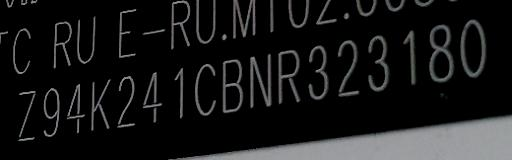letter: (424, 22, 458, 83), (456, 17, 488, 78), (246, 50, 276, 112), (364, 33, 392, 93), (218, 56, 246, 116), (275, 46, 303, 104), (304, 43, 330, 101), (192, 60, 218, 116), (336, 39, 360, 98), (88, 76, 112, 131), (140, 68, 164, 123), (114, 74, 138, 128), (14, 87, 38, 140), (40, 86, 64, 137), (400, 27, 420, 86), (65, 80, 87, 133), (172, 65, 186, 119)
